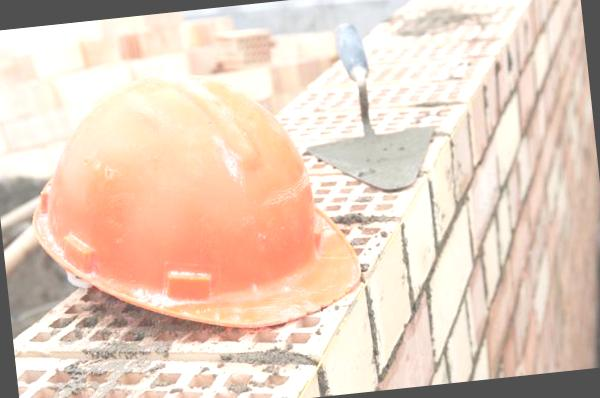helmet: (16, 46, 363, 347)
